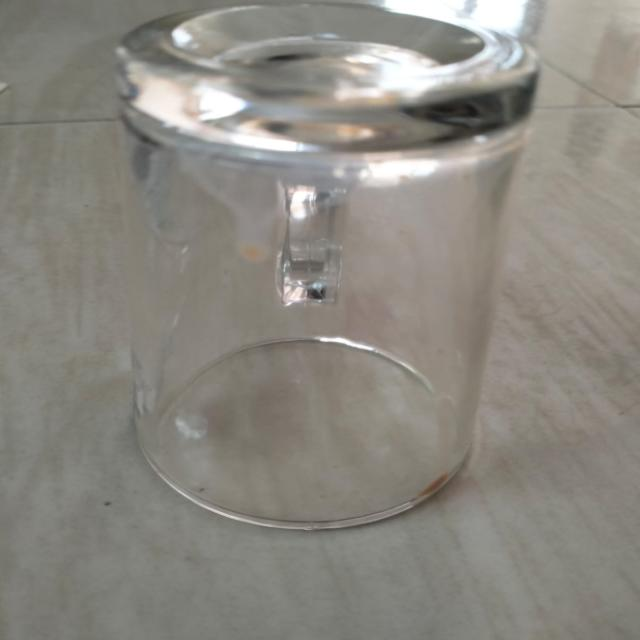glass-VX4N: (113, 0, 541, 530)
